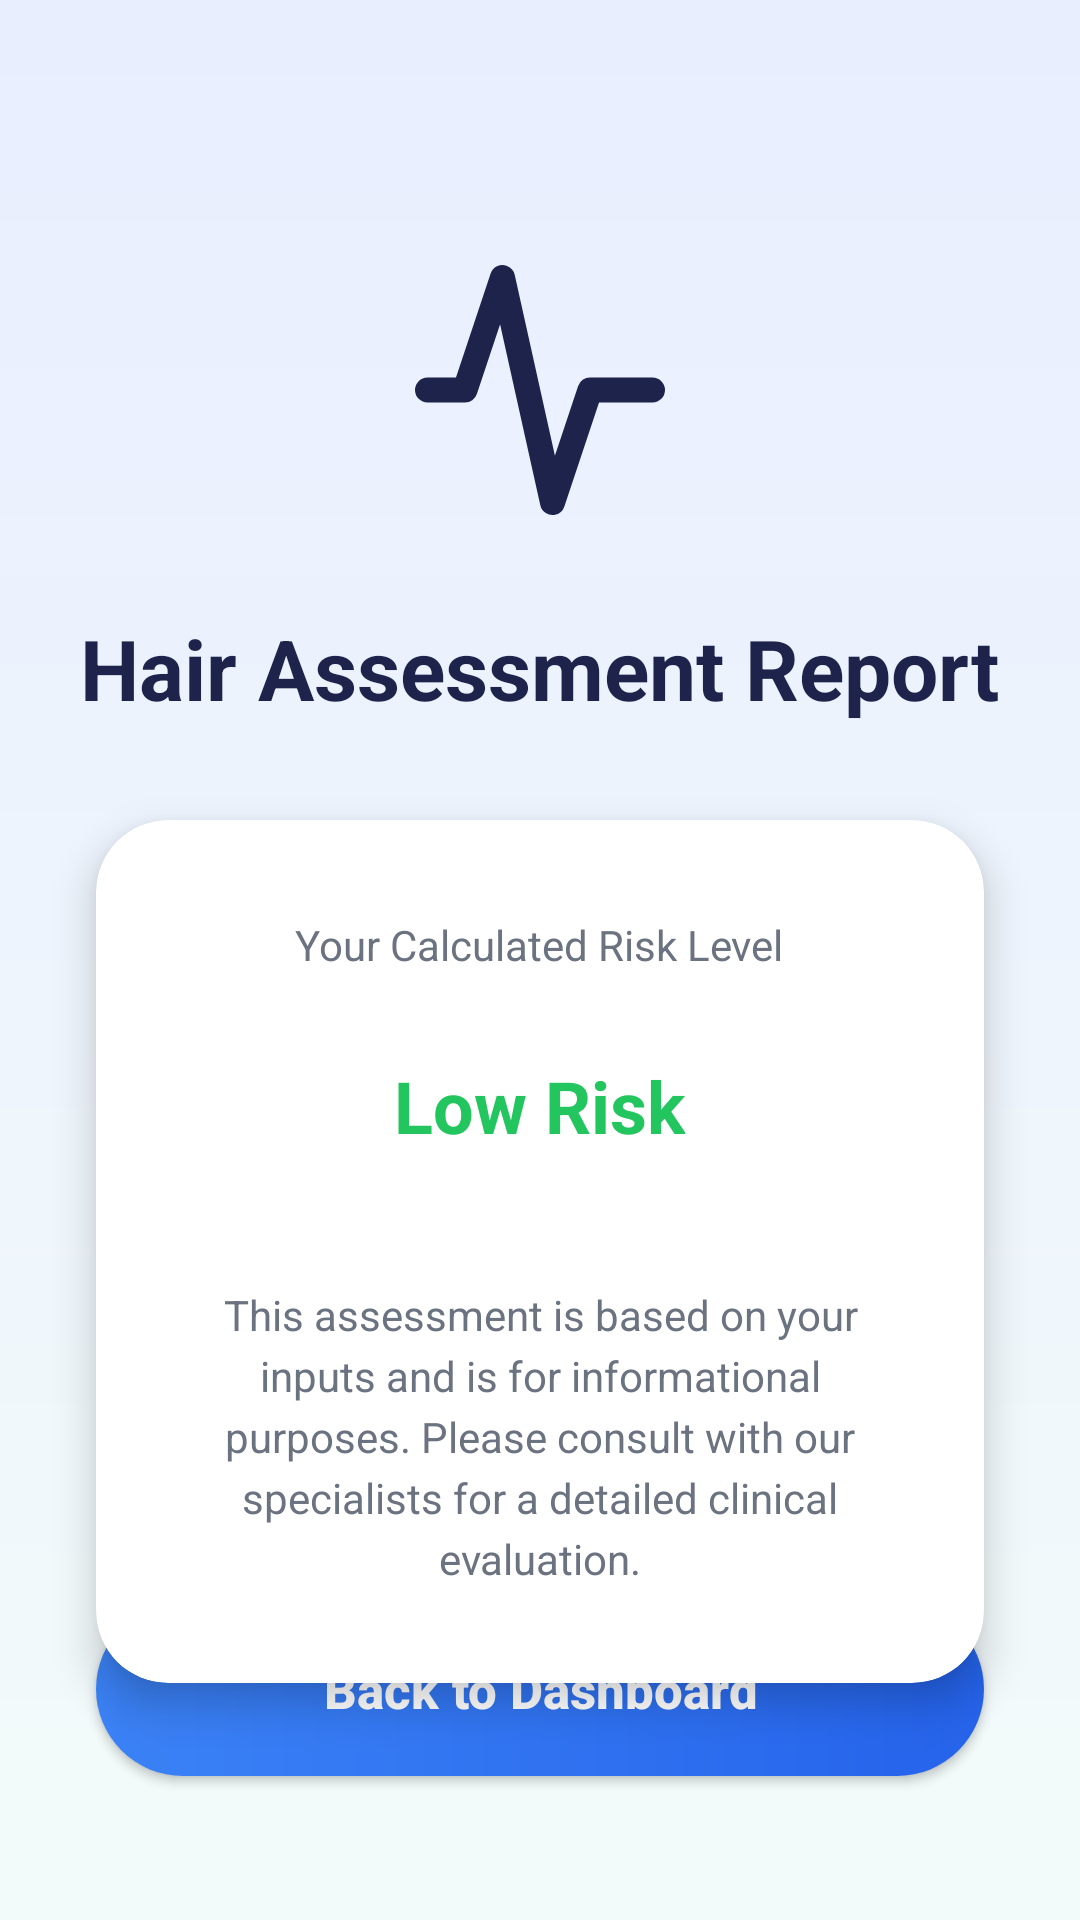

Icon bounding boxes for this 1080w x 1920h phone screenshot, format (x1, y1, x2, y2):
heartbeat: (415, 265, 665, 515)
